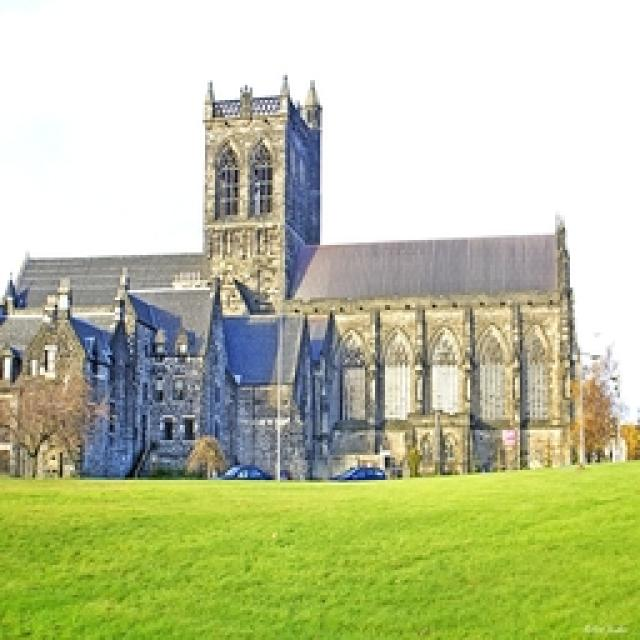Abbey: (173, 57, 343, 479)
